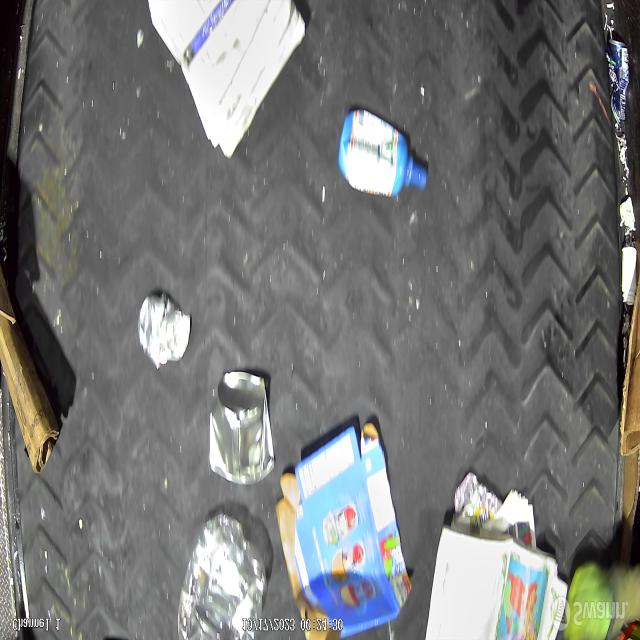can: (210, 371, 274, 484), (606, 39, 629, 126)
